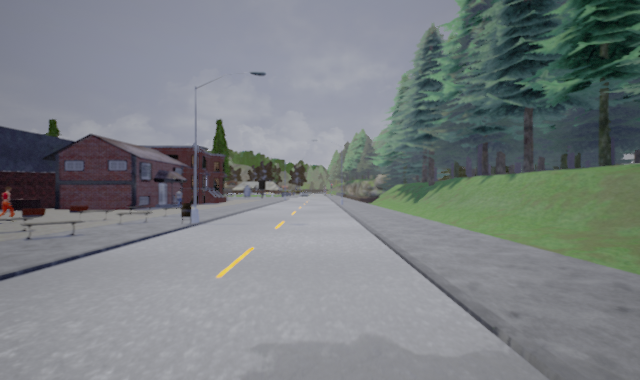pedestrian: (0, 184, 19, 223), (173, 187, 184, 208)
